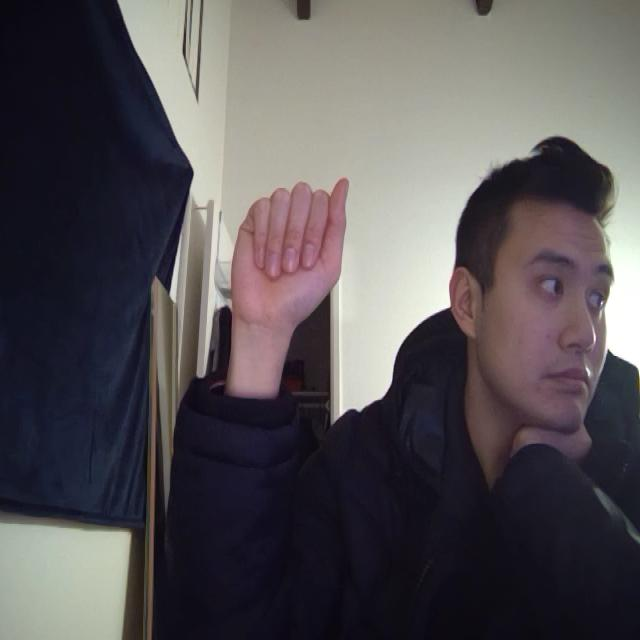A: (217, 151, 385, 355)
